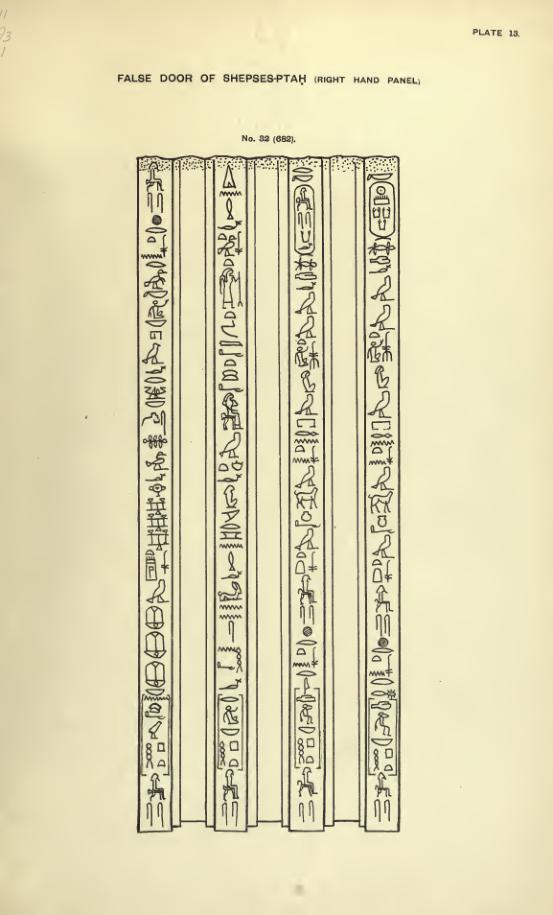circle: (293, 183, 319, 257), (367, 180, 396, 241)
